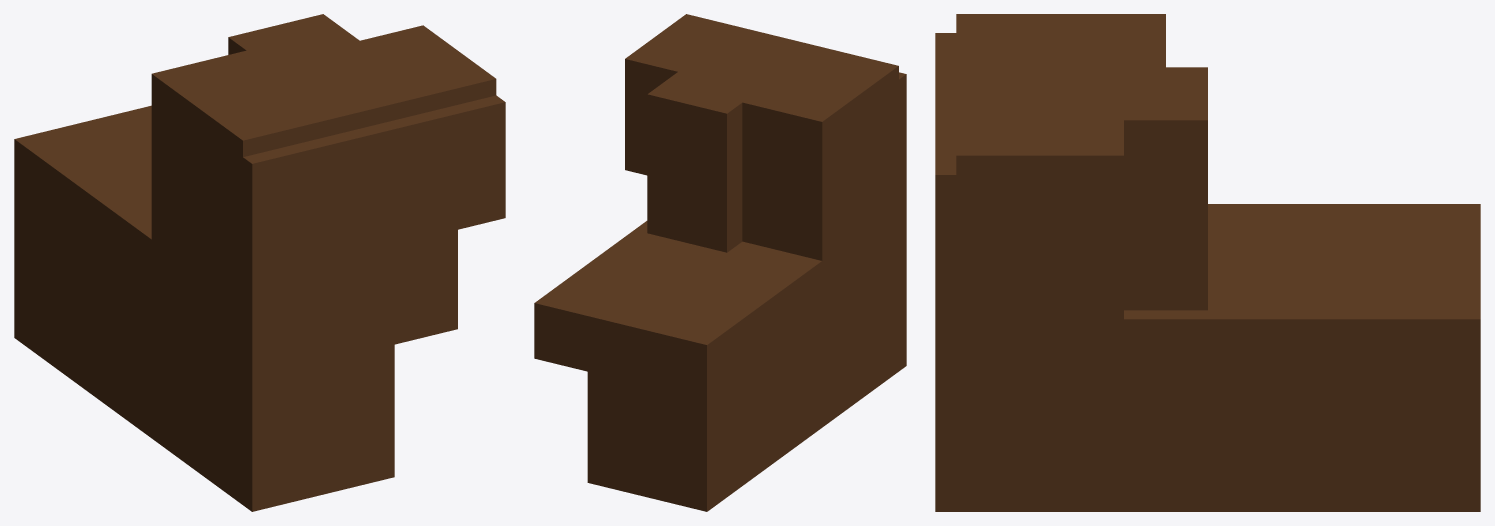
The model's file is av_hair_grey.glb.
3 views of the same model, side by side, from view 1: azimuth 30°, elevation 25°; view 2: azimuth 150°, elevation 25°; view 3: azimuth 270°, elevation 25° (orthographic). The views are drawn at different scales.
Visible parts, largest first — view 1: model; view 2: model; view 3: model.
Boxes of the visible parts, x1,y1,x2,y2 form: model: (14, 14, 505, 511); model: (534, 14, 906, 511); model: (935, 14, 1480, 511).
Bounding box in the file's own units: 0.16 × 0.22 × 0.26.
